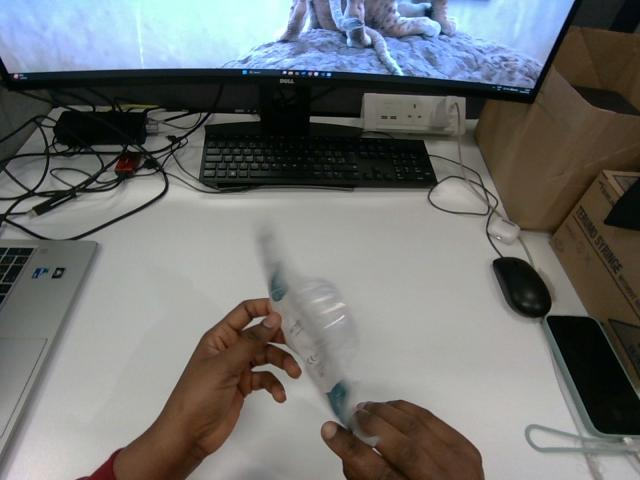gallipot: (258, 229, 356, 429)
